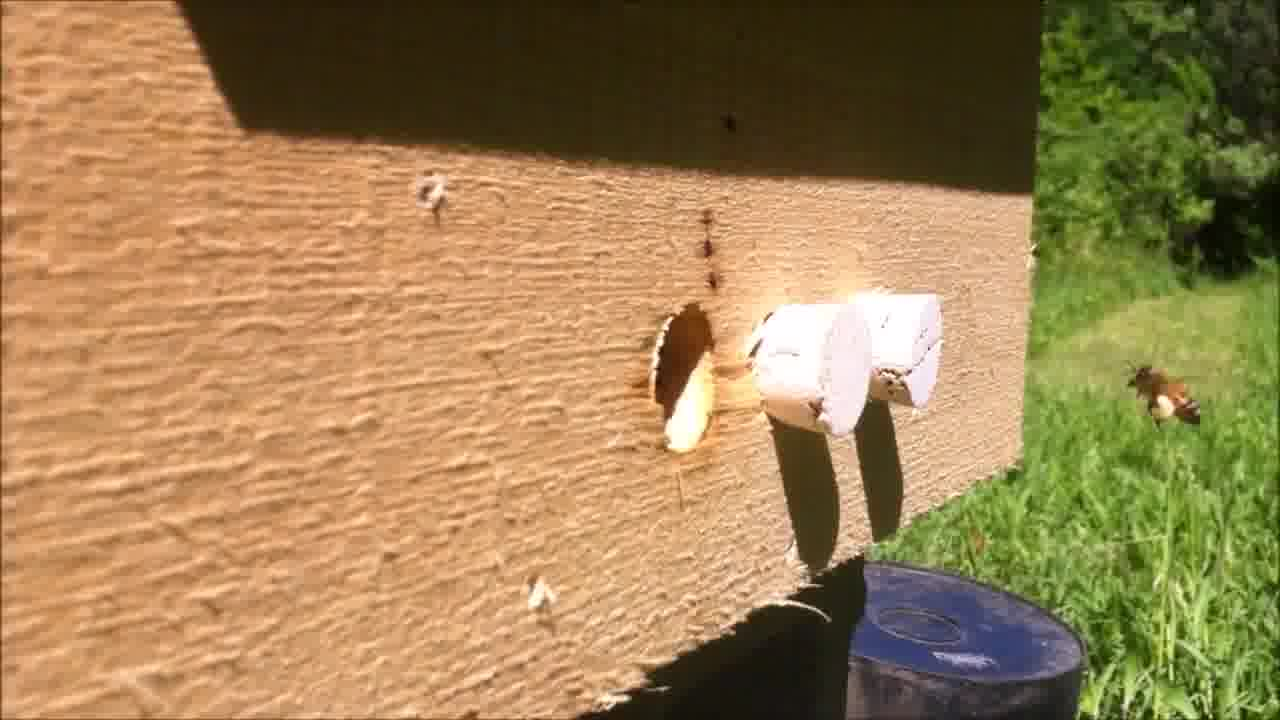pollen: (1129, 362, 1205, 429)
